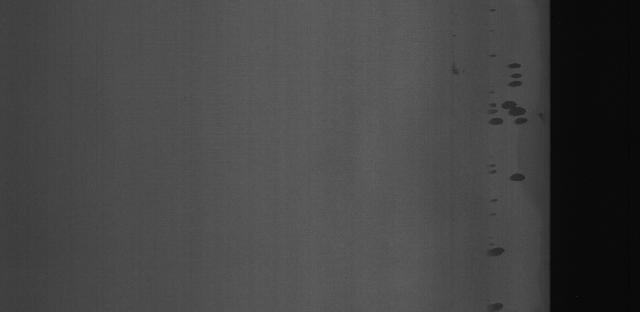oil_spot: (484, 90, 541, 132), (478, 154, 503, 218), (502, 53, 523, 91), (483, 244, 507, 264), (508, 172, 526, 188), (483, 297, 503, 311)
